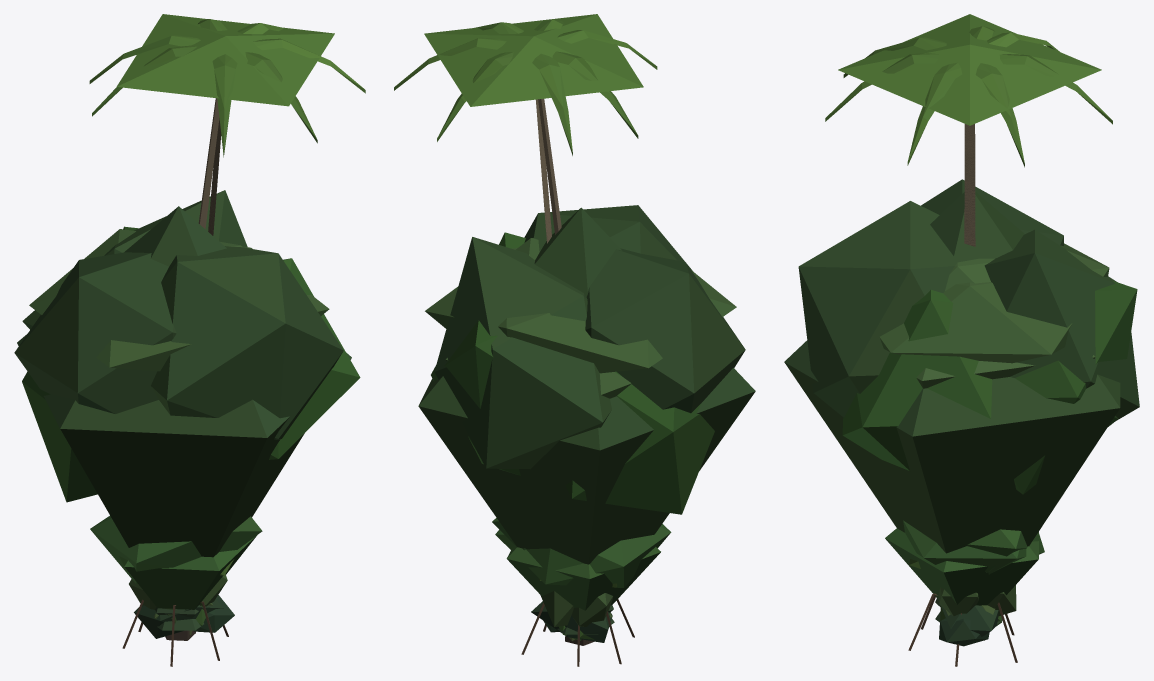
The model's file is plants.glb.
3 renders of one model, left to right at view 1: azimuth 30°, elevation 25°; view 2: azimuth 150°, elevation 25°; view 3: azimuth 270°, elevation 25°, orthographic. The views are drawn at different scales.
Visible parts, largest first — view 1: holm-oak, holm-oak-far, coconut-palm-far, mahogany, coconut-palm, red-mangrove, red-mangrove-far, stone-pine, tuckamore, azores-heath; view 2: holm-oak, holm-oak-far, coconut-palm-far, mahogany, coconut-palm, stone-pine, red-mangrove, red-mangrove-far, azores-heath, tuckamore, stone-pine-far; view 3: holm-oak-far, holm-oak, mahogany, coconut-palm-far, stone-pine, coconut-palm, red-mangrove-far, red-mangrove, tuckamore, stone-pine-far, azores-heath.
Part boxes in pixels (x1,y1,x2,y2): holm-oak: [14, 190, 343, 640]; holm-oak-far: [17, 206, 351, 557]; coconut-palm-far: [116, 14, 334, 235]; mahogany: [22, 226, 360, 502]; coconut-palm: [89, 19, 365, 229]; red-mangrove: [90, 516, 262, 666]; red-mangrove-far: [119, 535, 256, 609]; stone-pine: [29, 229, 329, 371]; tuckamore: [134, 595, 234, 638]; azores-heath: [129, 574, 227, 623]; holm-oak: [434, 205, 745, 645]; holm-oak-far: [418, 207, 755, 564]; coconut-palm-far: [424, 14, 643, 243]; mahogany: [431, 232, 714, 514]; coconut-palm: [394, 19, 657, 234]; stone-pine: [425, 238, 736, 373]; red-mangrove: [492, 518, 671, 666]; red-mangrove-far: [506, 547, 660, 610]; azores-heath: [540, 591, 613, 627]; tuckamore: [531, 601, 612, 642]; stone-pine-far: [445, 357, 631, 398]; holm-oak-far: [784, 192, 1120, 553]; holm-oak: [798, 179, 1139, 640]; mahogany: [842, 280, 1137, 494]; coconut-palm-far: [838, 14, 1101, 246]; stone-pine: [879, 243, 1109, 363]; coconut-palm: [825, 26, 1112, 167]; red-mangrove-far: [885, 528, 1038, 605]; red-mangrove: [903, 520, 1044, 666]; tuckamore: [938, 598, 998, 646]; stone-pine-far: [916, 355, 1095, 388]; azores-heath: [938, 585, 1016, 616].
Size of the model in its own units: 11.95 by 22.22 by 11.49.
